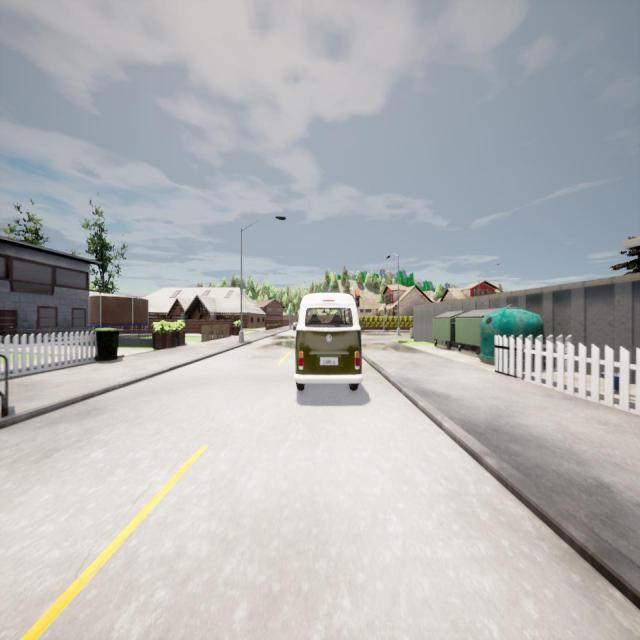Vehicle: (294, 293, 362, 390), (292, 317, 297, 331)
traffic_light: (355, 290, 360, 307), (385, 308, 386, 314)
